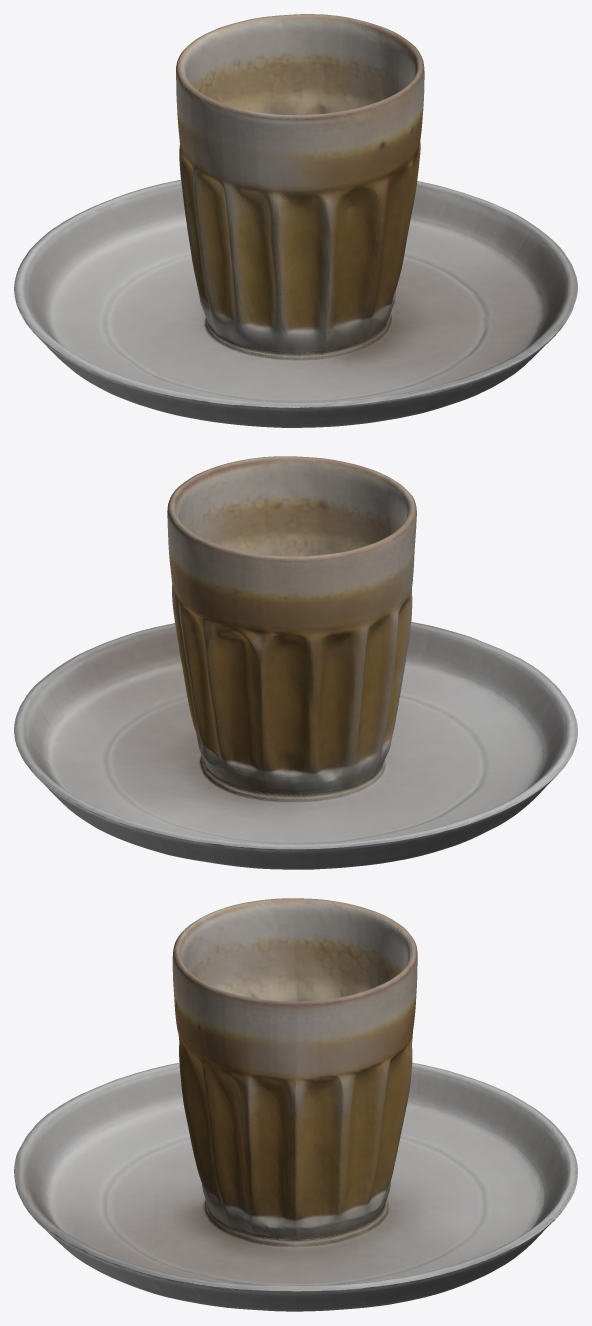
3 views of the same model, one above another, from view 1: azimuth 30°, elevation 25°; view 2: azimuth 150°, elevation 25°; view 3: azimuth 270°, elevation 25° (orthographic).
Visible parts, largest first — view 1: geometry_0; view 2: geometry_0; view 3: geometry_0.
Boxes of the visible parts, x1=… form: geometry_0: x1=14, y1=14, x2=577, y2=427; geometry_0: x1=14, y1=456, x2=577, y2=869; geometry_0: x1=14, y1=898, x2=577, y2=1311.
Bounding box in the file's own units: 0.9972 × 0.5218 × 0.9952.
